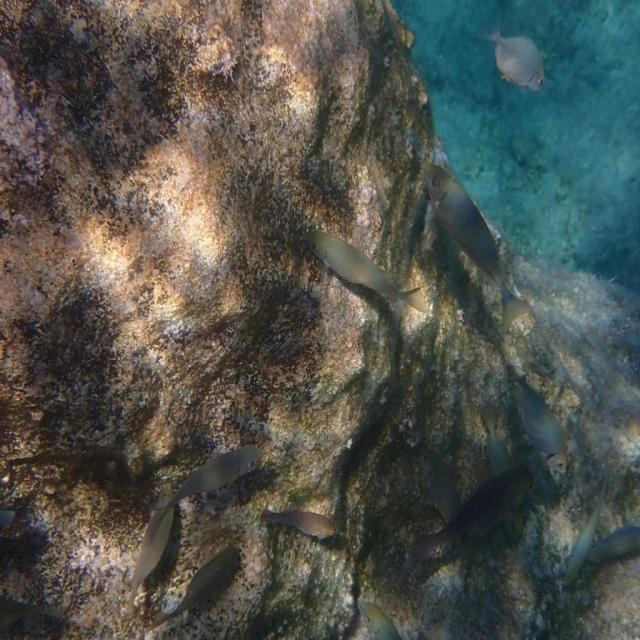Sokar Baligi: (417, 152, 536, 342), (298, 216, 428, 321), (472, 10, 553, 103), (260, 495, 344, 549)
